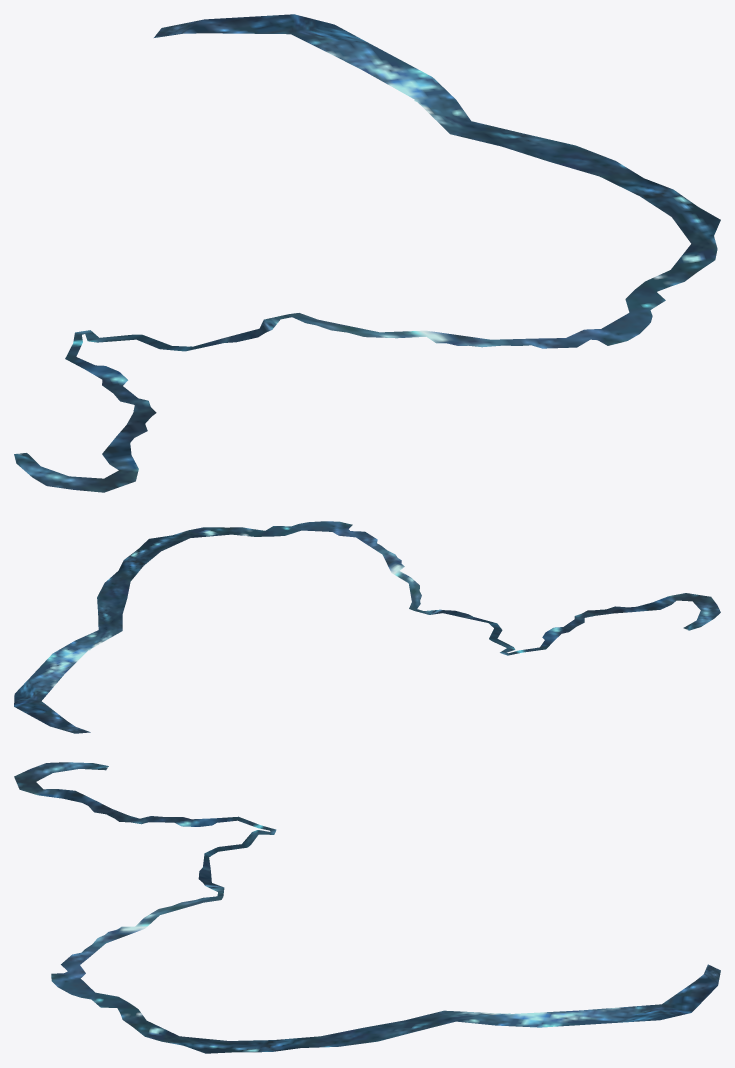
The model's file is shuigaoguang02.FBX.
The picture shows the model from 3 angles, top to bottom: view 1: azimuth 30°, elevation 25°; view 2: azimuth 150°, elevation 25°; view 3: azimuth 270°, elevation 25°; orthographic projection. The views are drawn at different scales.
Parts seen in each view (by area): view 1: Cone001; view 2: Cone001; view 3: Cone001.
Boxes of the visible parts, bbox=[...] form: Cone001: bbox=[14, 14, 720, 492]; Cone001: bbox=[14, 521, 720, 733]; Cone001: bbox=[14, 762, 720, 1053].
Size of the model in its own units: 1058 by 0.000318 by 1084.
